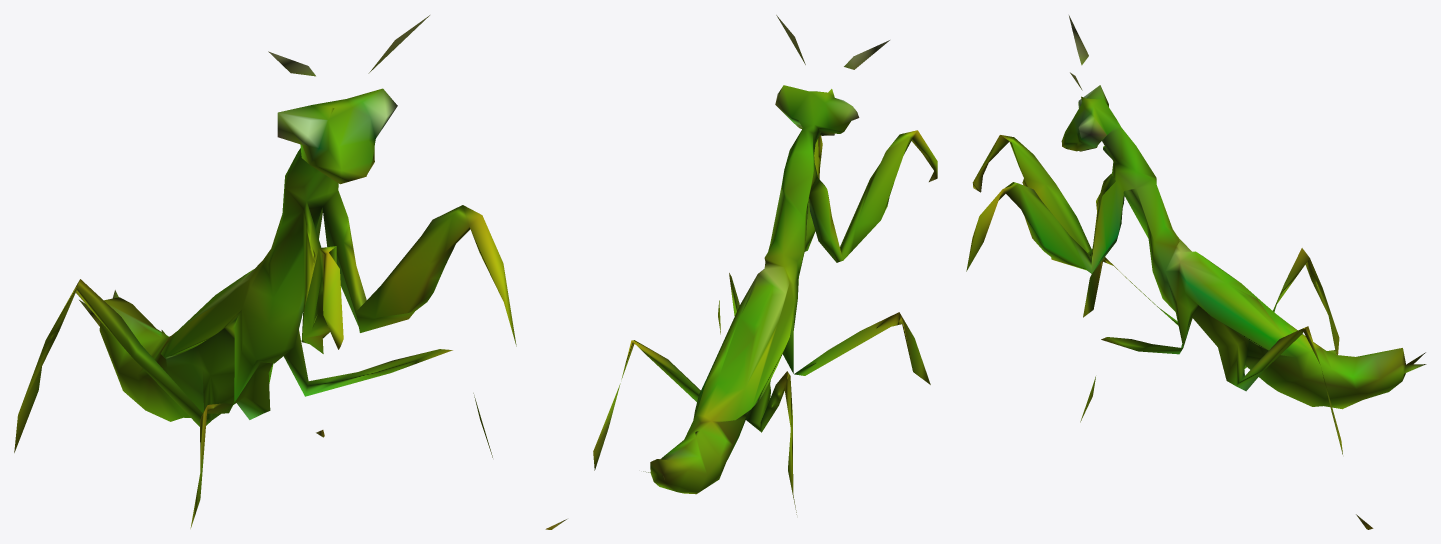
The model's file is bug_mantis.glb.
3 renders of one model, left to right at view 1: azimuth 30°, elevation 25°; view 2: azimuth 150°, elevation 25°; view 3: azimuth 270°, elevation 25°, orthographic. The views are drawn at different scales.
Visible parts, largest first — view 1: bug_mantis; view 2: bug_mantis; view 3: bug_mantis.
Boxes of the visible parts, <box> form: bug_mantis: <box>14,15,516,528</box>; bug_mantis: <box>545,15,937,529</box>; bug_mantis: <box>966,15,1426,529</box>.
Size of the model in its own units: 0.5543 by 0.9438 by 0.9294.
